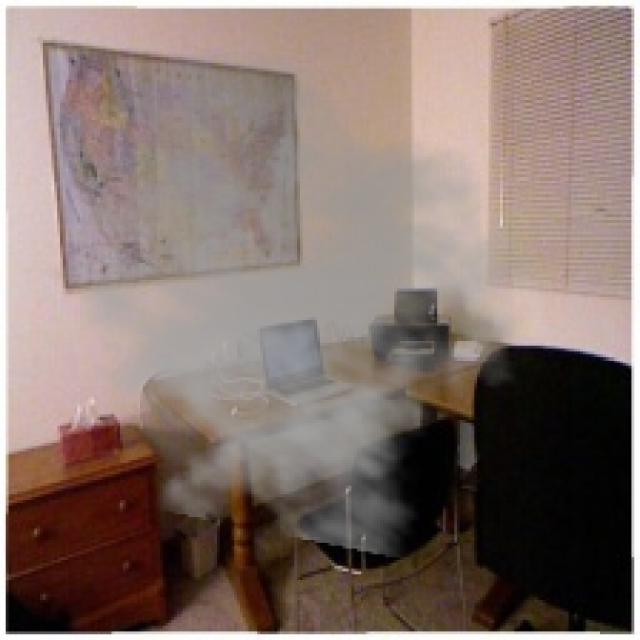smoke: (23, 46, 540, 560)
